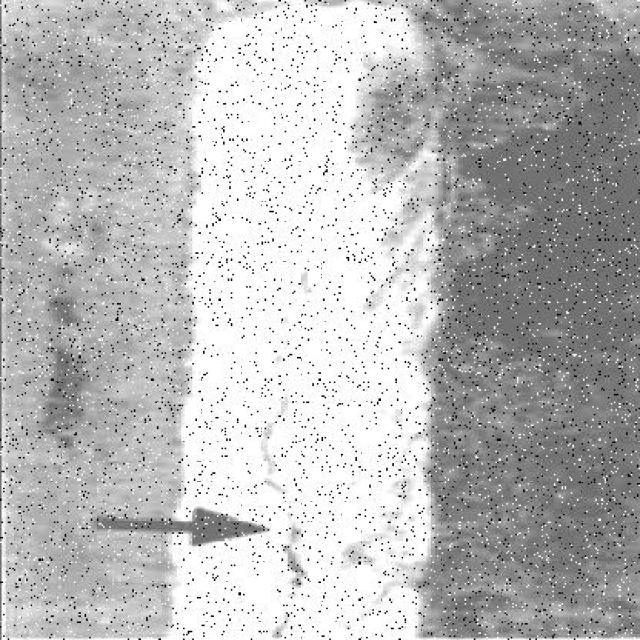Crack: (241, 240, 317, 640)
